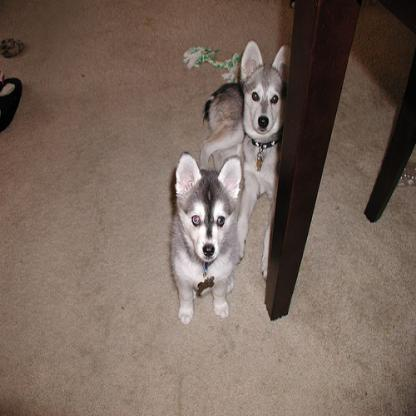dog: (198, 38, 291, 281), (170, 151, 242, 326)
